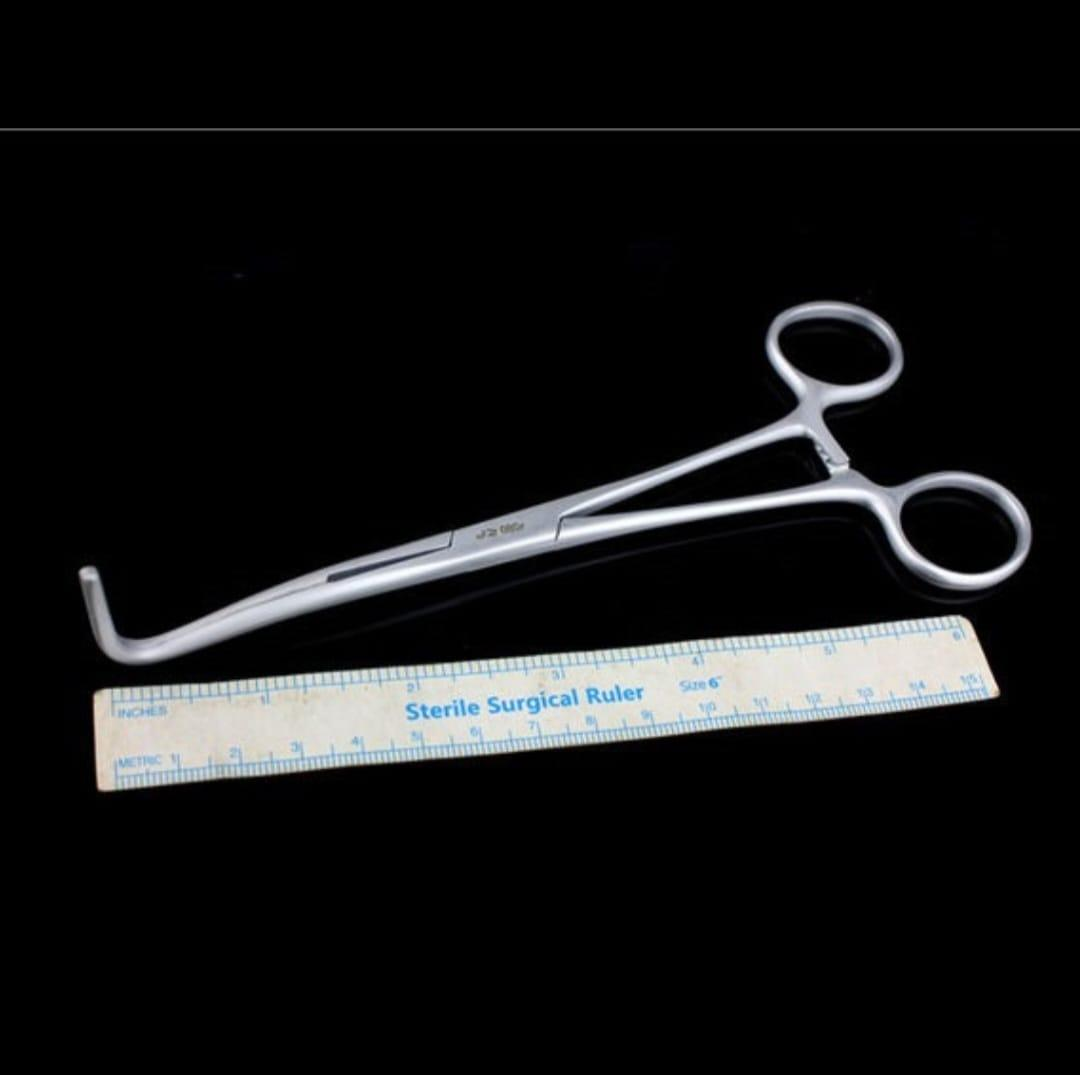Rectangle Cholecystectomy Forceps: (75, 282, 1042, 682)
